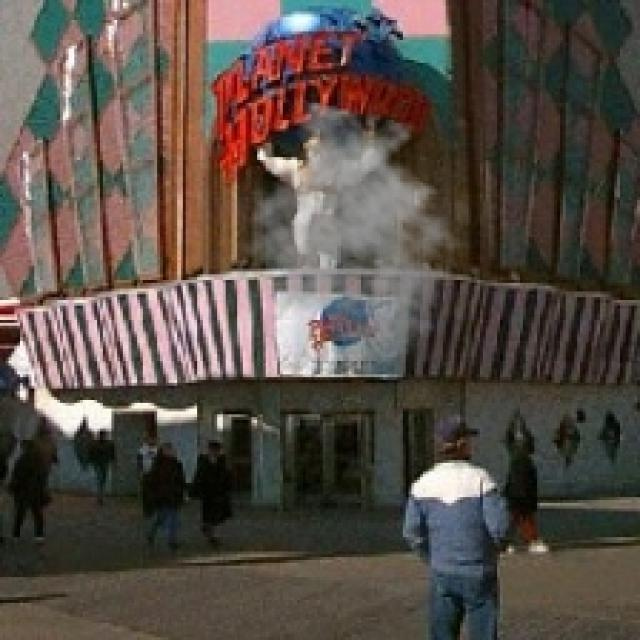smoke: (240, 100, 474, 360)
